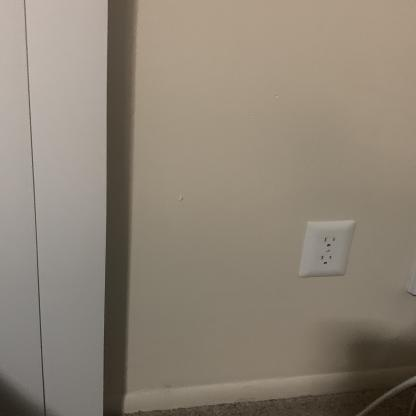OUTLET: (299, 222, 350, 276)
